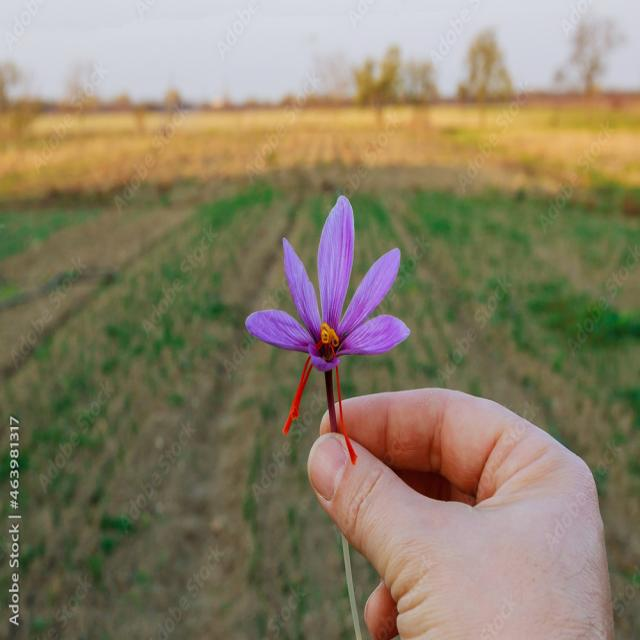saffron open: (245, 196, 410, 434)
